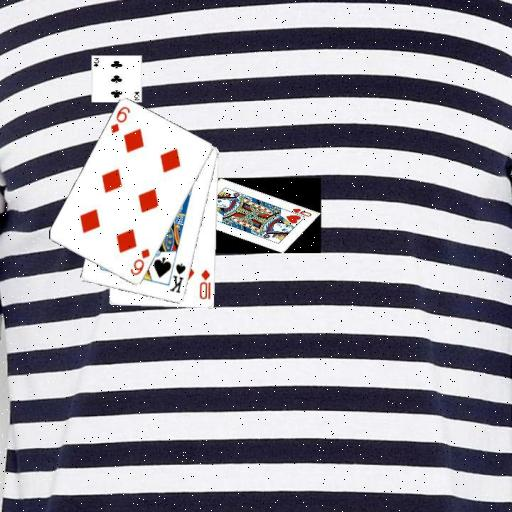10D: (197, 267, 212, 301)
6D: (128, 246, 152, 278), (108, 103, 132, 135)
KS: (168, 260, 188, 295)
